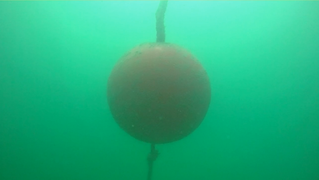bubble: (226, 134, 231, 139)
buoy: (105, 41, 212, 144)
